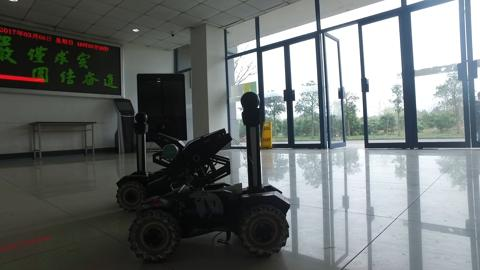chariot: (128, 90, 290, 265), (111, 110, 192, 209)
